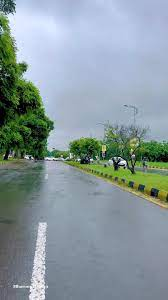straightRoad: (17, 147, 115, 285)
